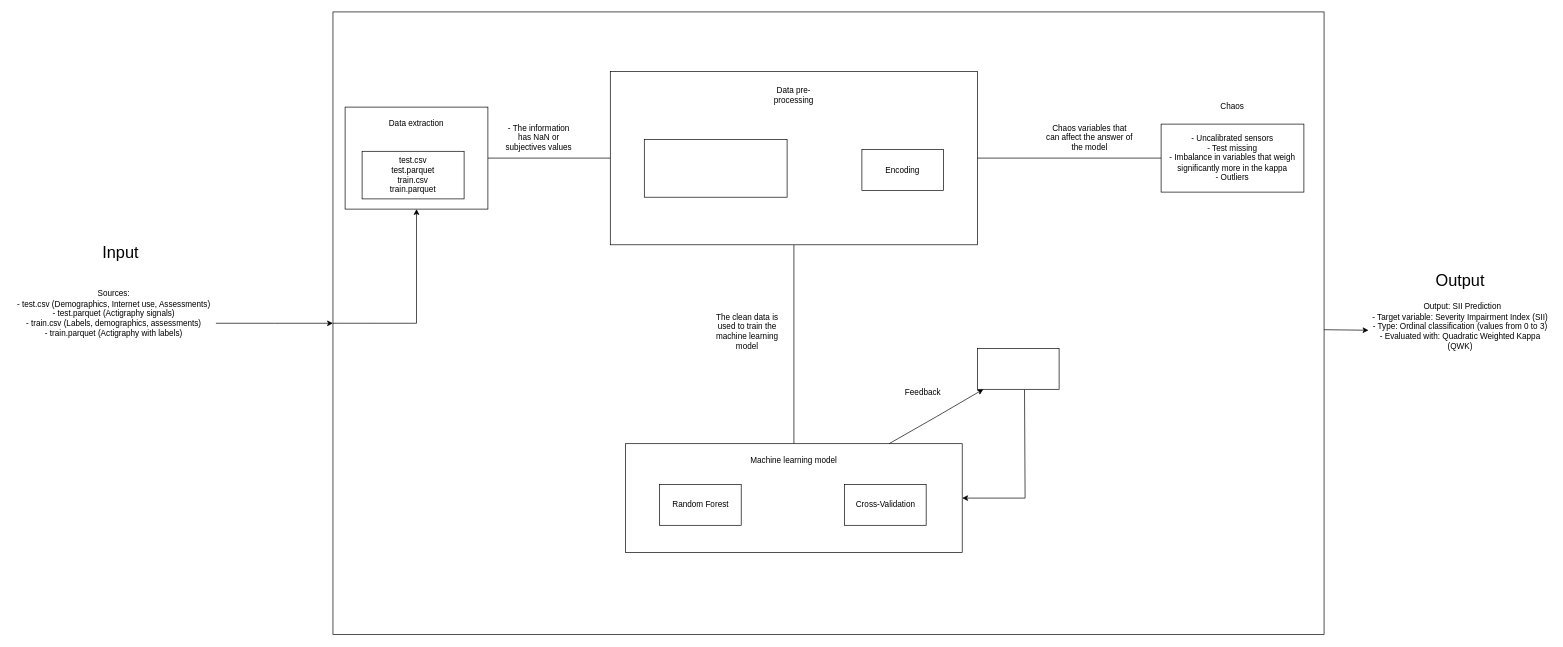
Some shapes in this 1563 by 647 pixel diagram are drawn without their labels. Here are the shapes that lost their labels. From the top down, the centre of each, then its label:
At point 715,168: "Fill missing values with some options: - media - median - interpolation".
At point 1018,368: "Quadratic Weighted Kappa".
